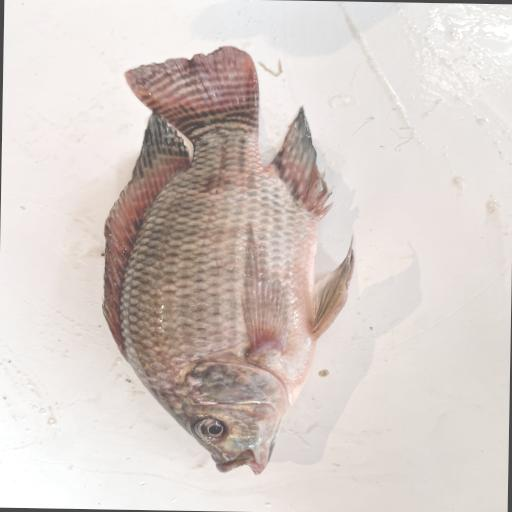Tilapia: (98, 43, 359, 477)
